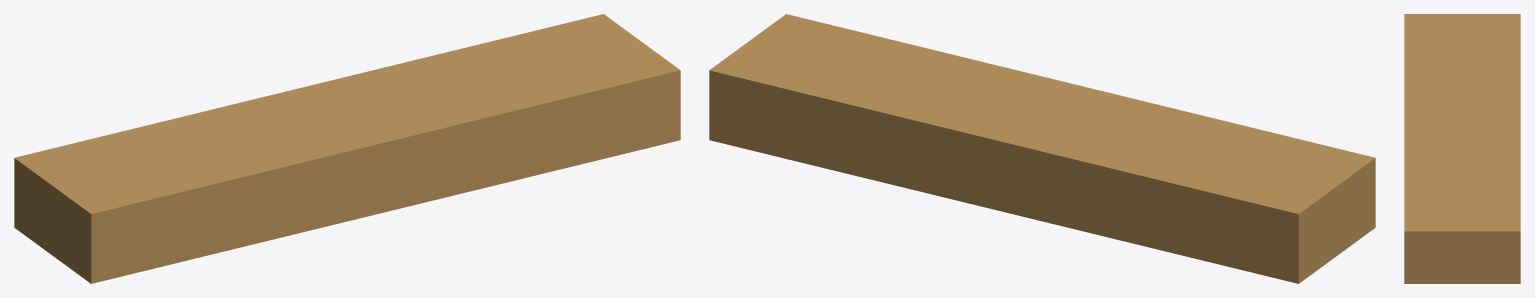
The picture shows the model from 3 angles, left to right: view 1: azimuth 30°, elevation 25°; view 2: azimuth 150°, elevation 25°; view 3: azimuth 270°, elevation 25°; orthographic projection. The views are drawn at different scales.
Visible parts, largest first — view 1: RUN-006-S00-NOG-05; view 2: RUN-006-S00-NOG-05; view 3: RUN-006-S00-NOG-05.
Part boxes in pixels (x1,y1,x2,y2): RUN-006-S00-NOG-05: (14, 14, 680, 283); RUN-006-S00-NOG-05: (709, 14, 1375, 283); RUN-006-S00-NOG-05: (1404, 14, 1520, 283).
Size of the model in its own units: 0.3977 by 0.045 by 0.09.
